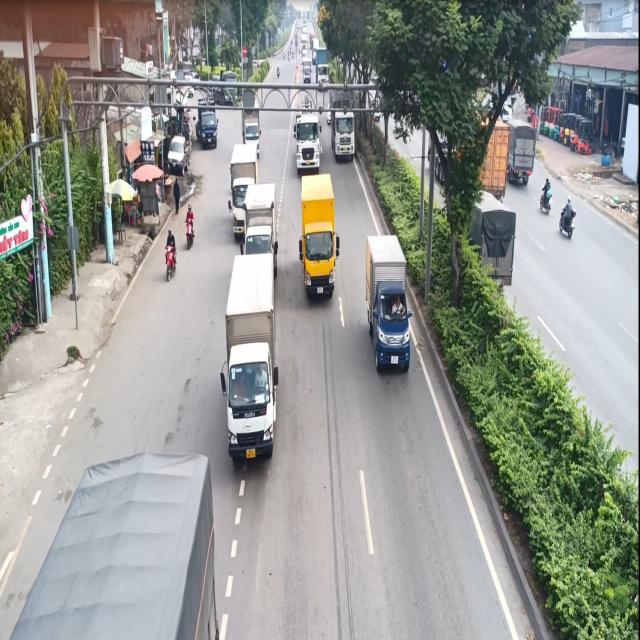motor: (160, 224, 180, 290), (185, 202, 198, 254)
truck: (218, 248, 288, 470), (362, 230, 420, 387), (298, 167, 344, 309), (294, 102, 324, 180), (196, 91, 218, 154)
